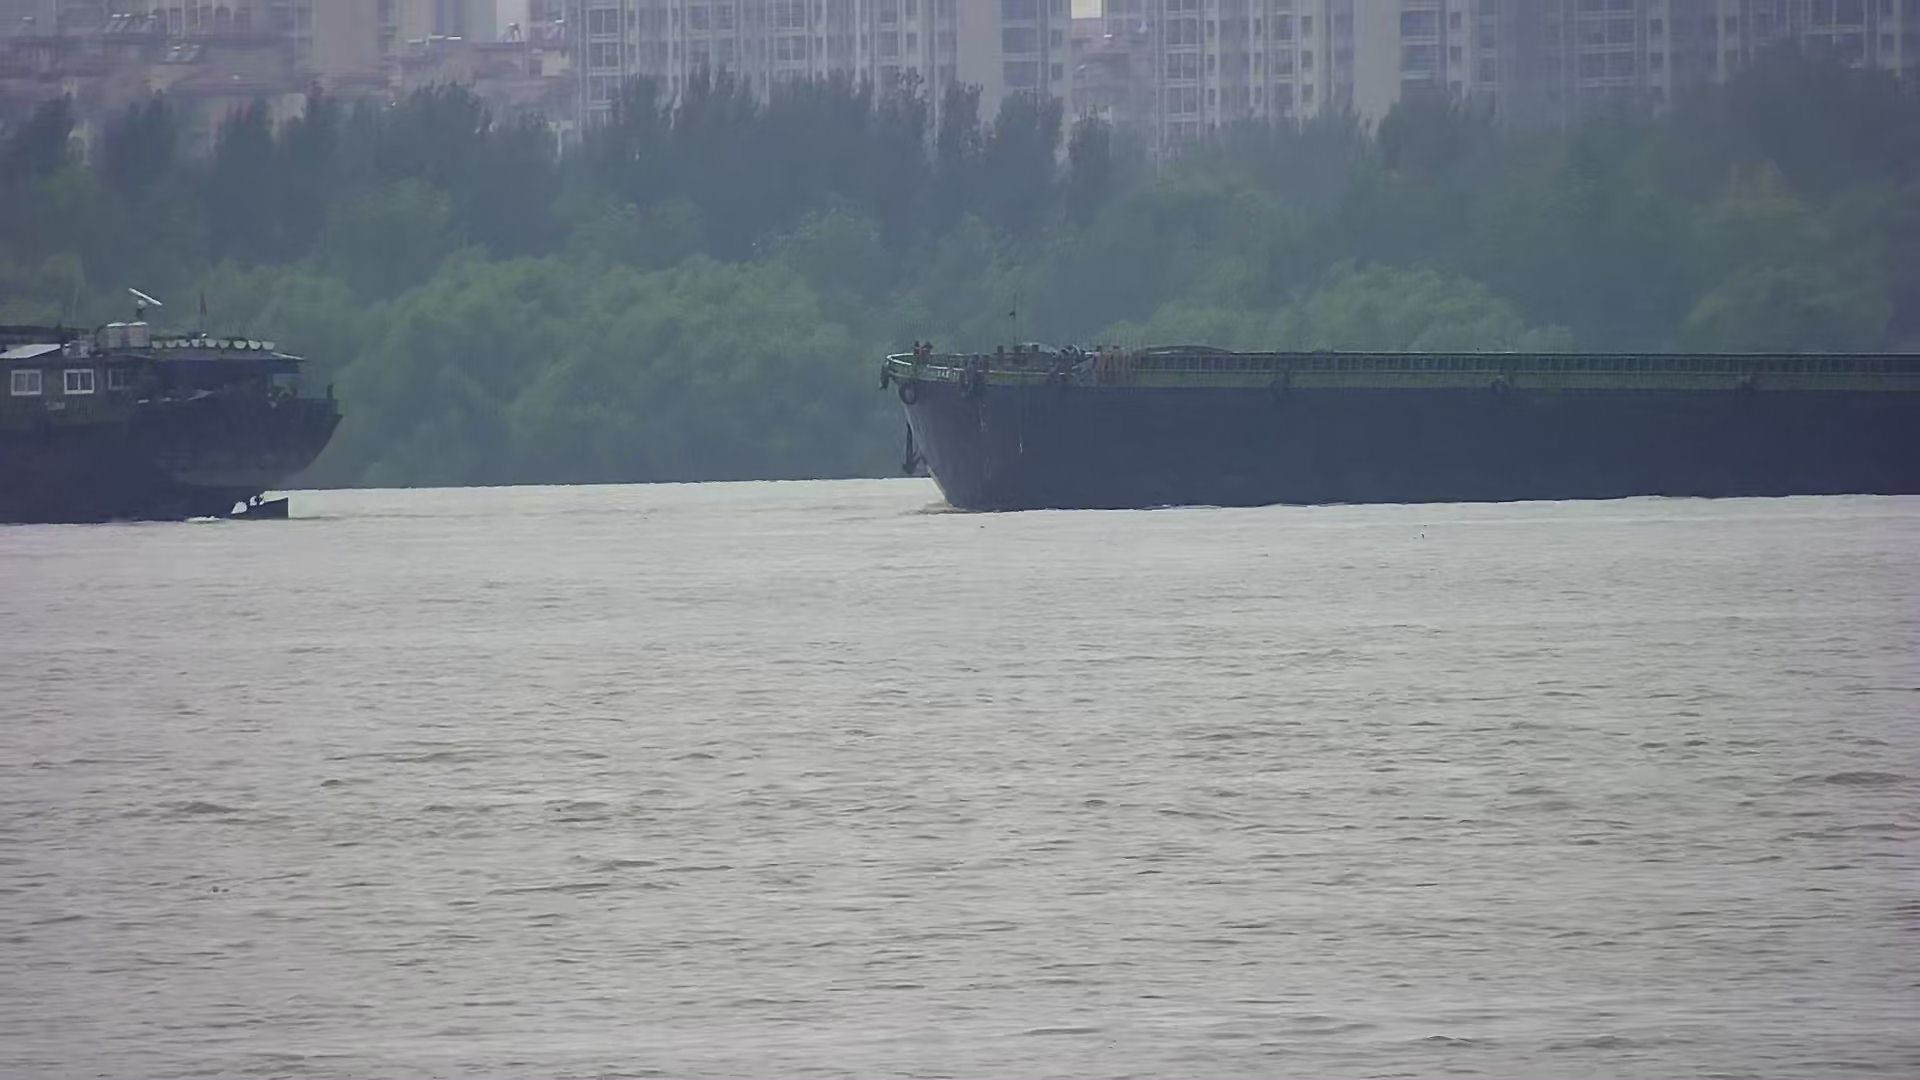ship: (874, 328, 1920, 514), (1, 284, 344, 525)
